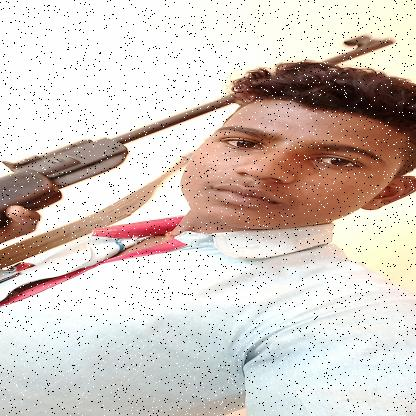rifle: (0, 33, 399, 224)
